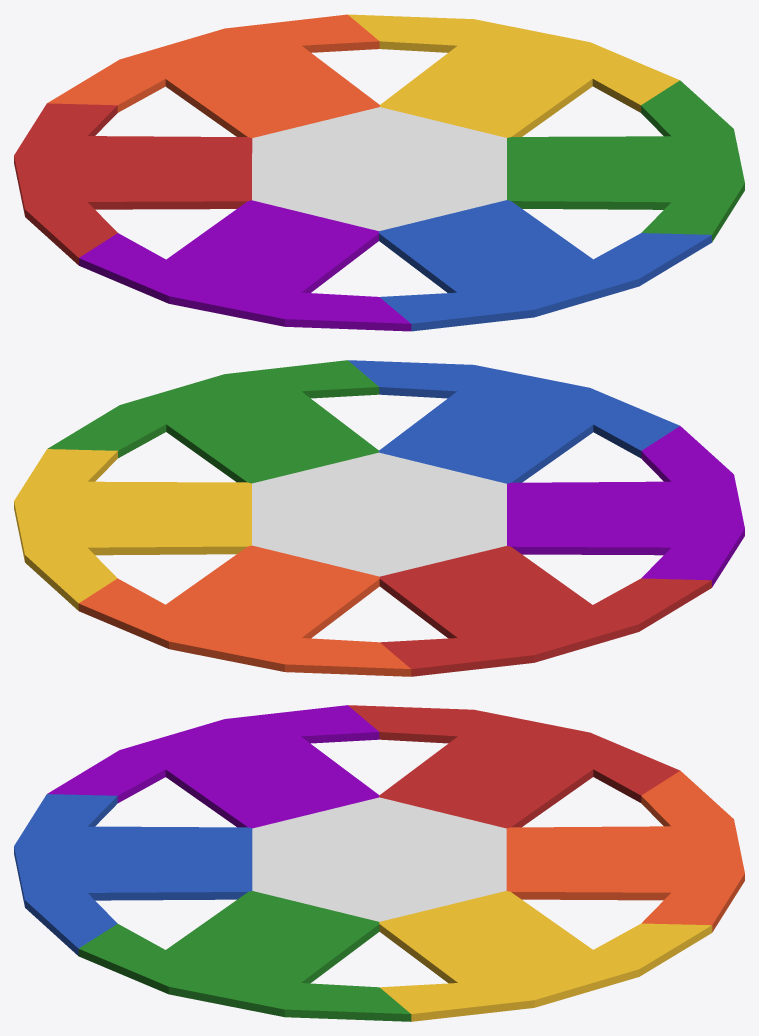
The model's file is platform-lowest.dae.
3 views of the same model, one above another, from view 1: azimuth 30°, elevation 25°; view 2: azimuth 150°, elevation 25°; view 3: azimuth 270°, elevation 25° (orthographic).
Parts seen in each view (by area): view 1: Hexagon_002; view 2: Hexagon_002; view 3: Hexagon_002.
Boxes of the visible parts, box(x1,y1,x2,y2) form: Hexagon_002: box(14, 14, 744, 331); Hexagon_002: box(14, 360, 744, 676); Hexagon_002: box(14, 705, 744, 1021).
Bounding box in the file's own units: 8.61 × 8.61 × 0.1028.
